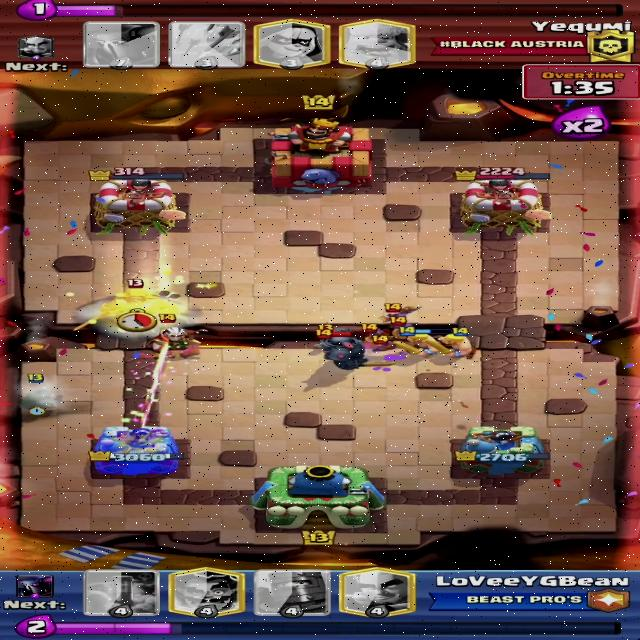Enemy-Bat: (382, 303, 422, 321), (358, 323, 388, 339), (367, 335, 400, 348), (388, 317, 412, 330)
Enemy-GoldenKnight: (73, 278, 179, 330)
Enemy-MagicArcher: (150, 313, 203, 359)
Enemy-PEKKA: (314, 329, 394, 369)
Player-Bandit: (24, 374, 58, 409)
Player-Barbarian: (425, 327, 476, 358), (395, 327, 439, 356)
